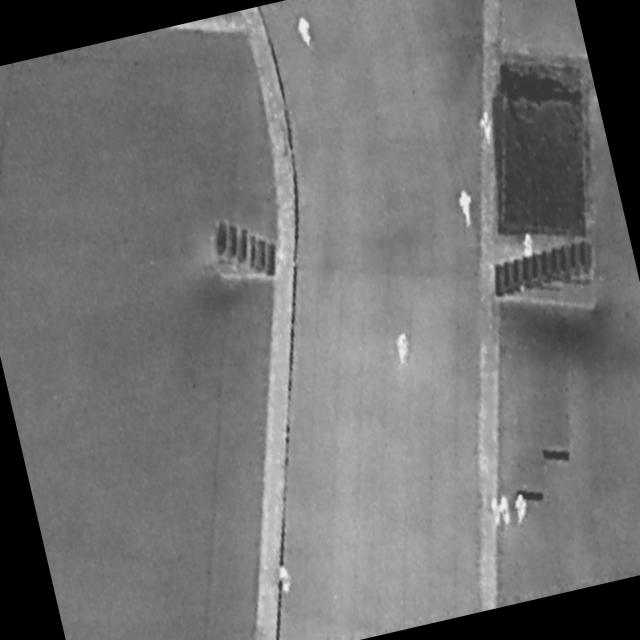person: (455, 187, 478, 230), (391, 330, 416, 369), (508, 491, 532, 529), (293, 15, 316, 50), (275, 561, 295, 597), (479, 110, 497, 146), (498, 492, 514, 527), (488, 494, 504, 528), (519, 231, 537, 260)
